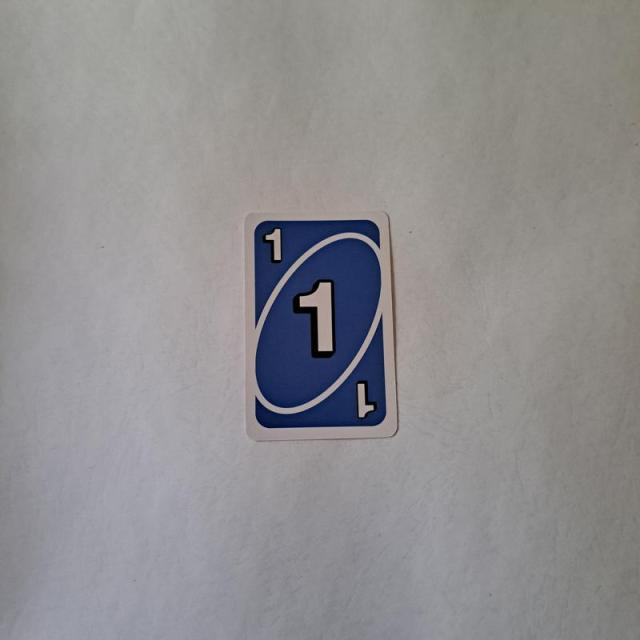Blue_Card: (251, 216, 389, 434)
Number_1: (259, 224, 291, 265)
